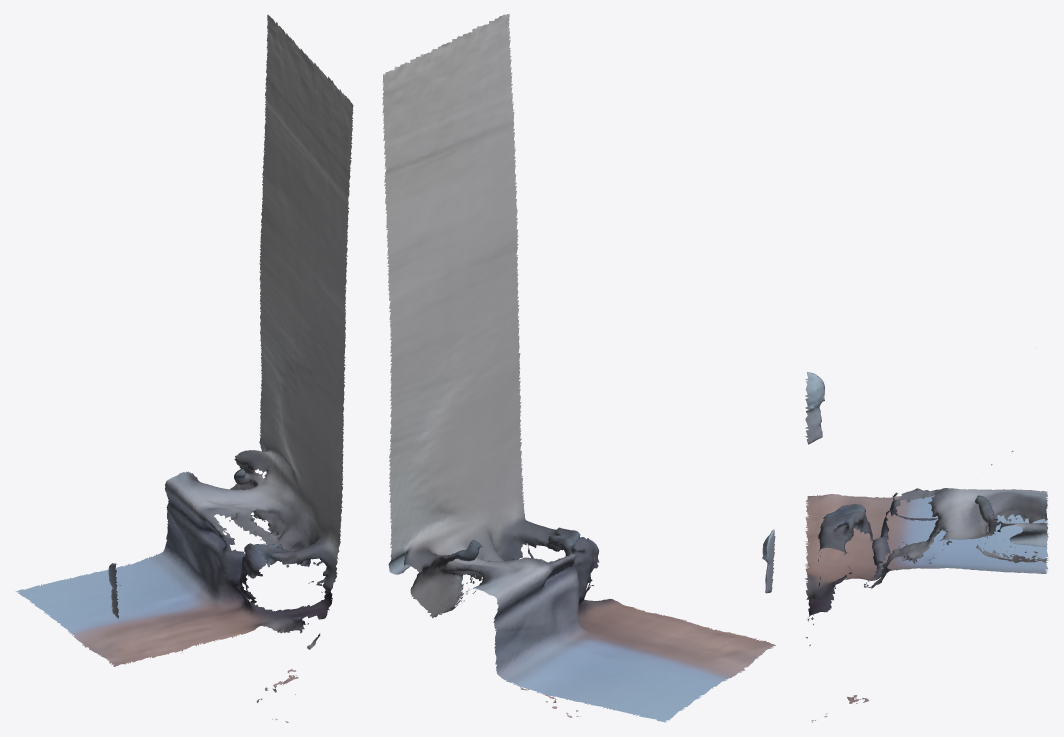
Rendered from apartment-full-62-4eb9e8530240.glb.
The picture shows the model from 3 angles, left to right: view 1: azimuth 30°, elevation 25°; view 2: azimuth 150°, elevation 25°; view 3: azimuth 270°, elevation 25°; orthographic projection. The views are drawn at different scales.
Size of the model in its own units: 0.901 by 2.11 by 0.624.
